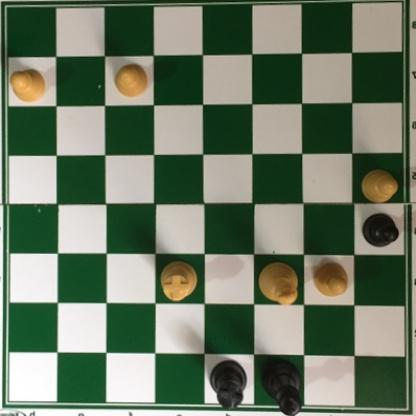black-king: (261, 359, 303, 415)
black-pawn: (361, 212, 399, 251)
black-rook: (210, 359, 248, 415)
white-king: (255, 261, 299, 308)
white-pawn: (112, 63, 150, 100), (360, 169, 400, 204), (7, 71, 47, 106), (312, 262, 349, 298)
white-rook: (158, 260, 199, 306)
